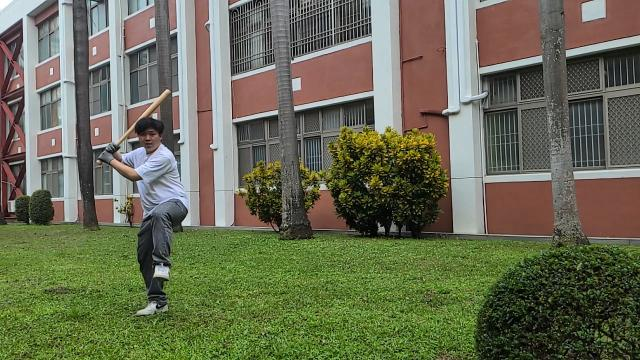baseball bat: (115, 89, 172, 147)
